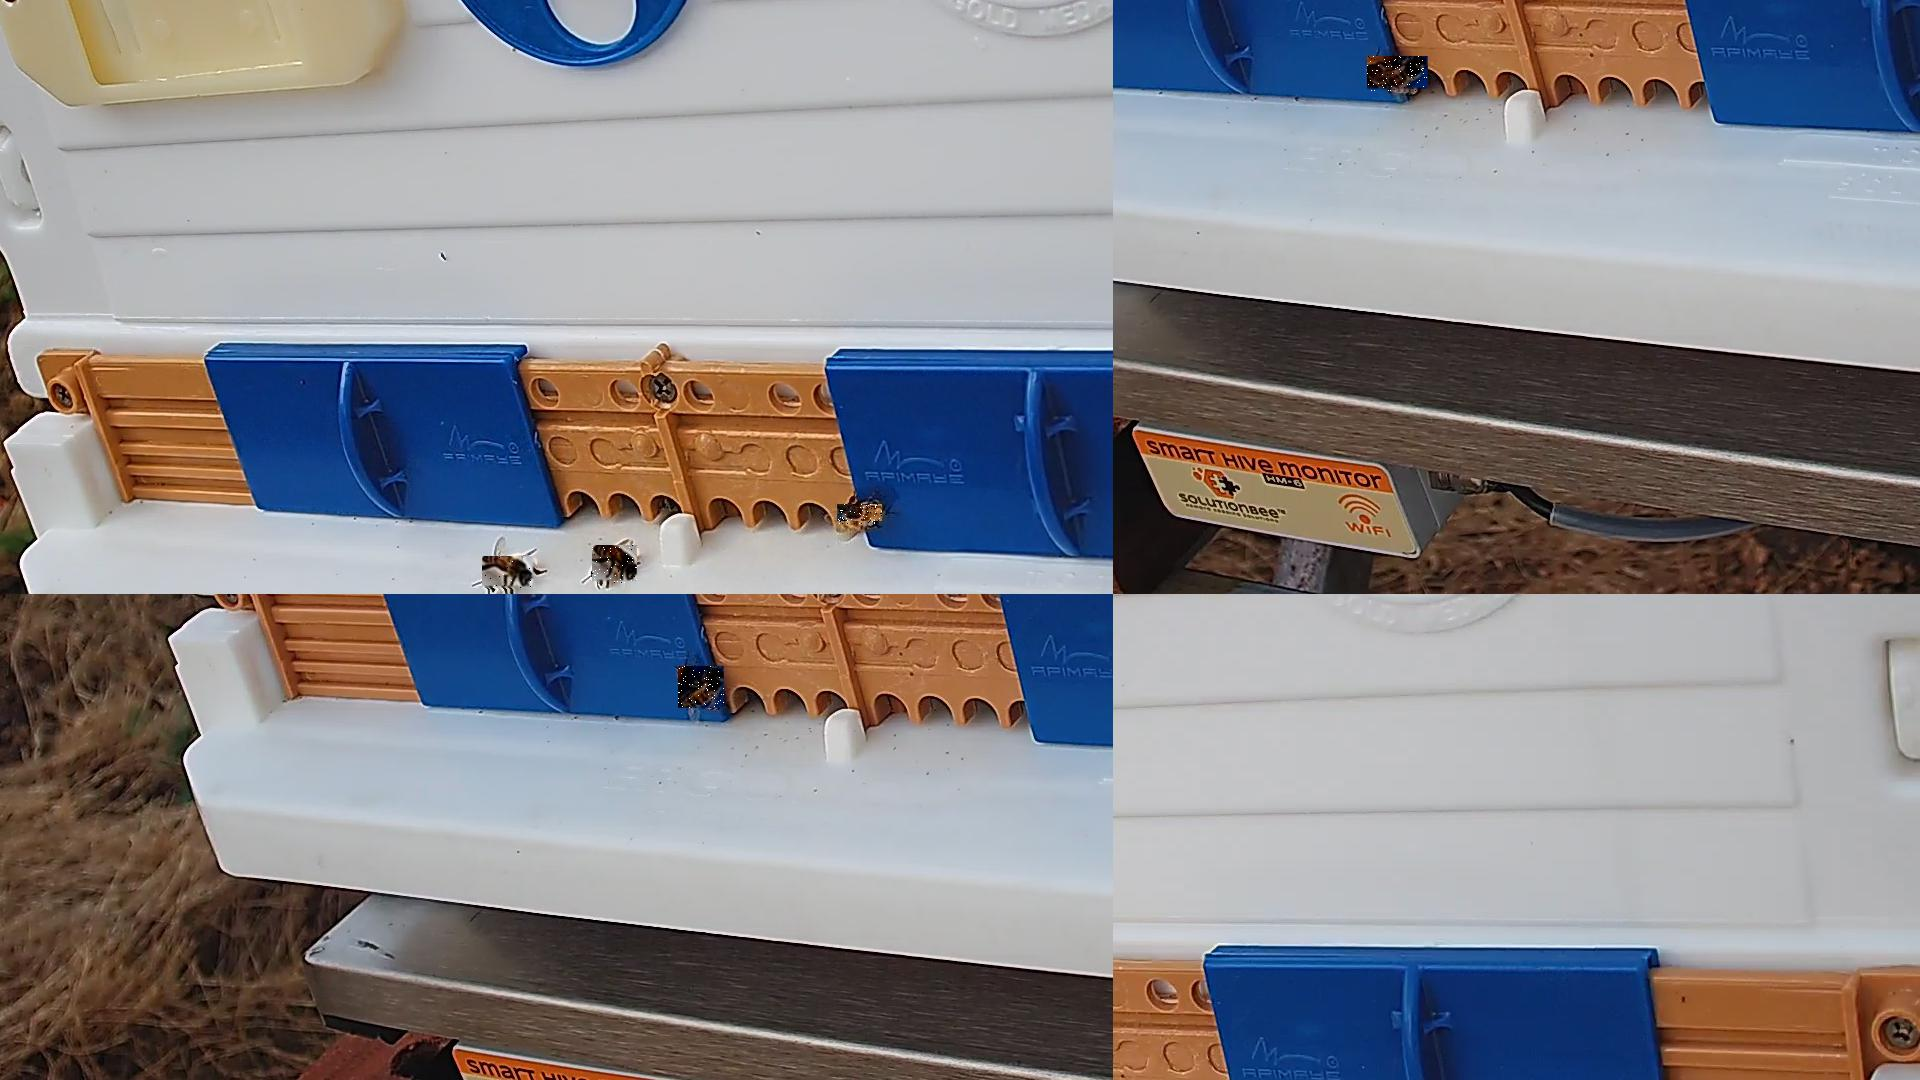bee: (1367, 57, 1429, 92), (678, 666, 725, 709), (483, 556, 538, 591), (592, 546, 638, 585), (837, 505, 884, 526)
